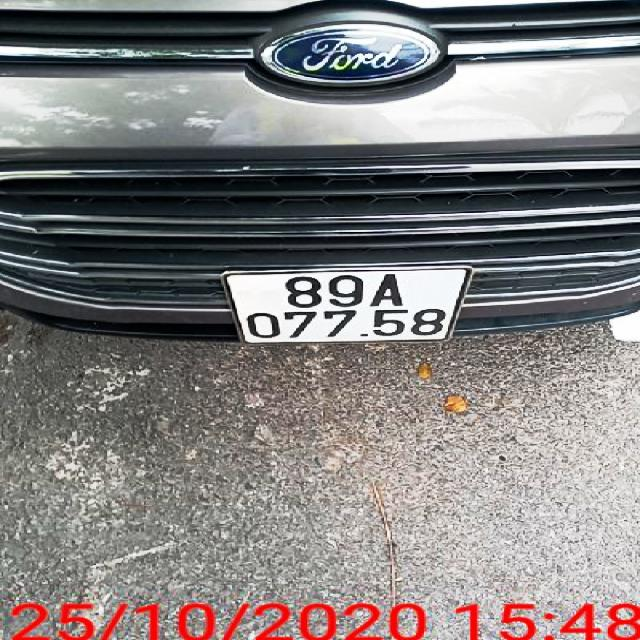license_plate: (230, 268, 472, 342)
